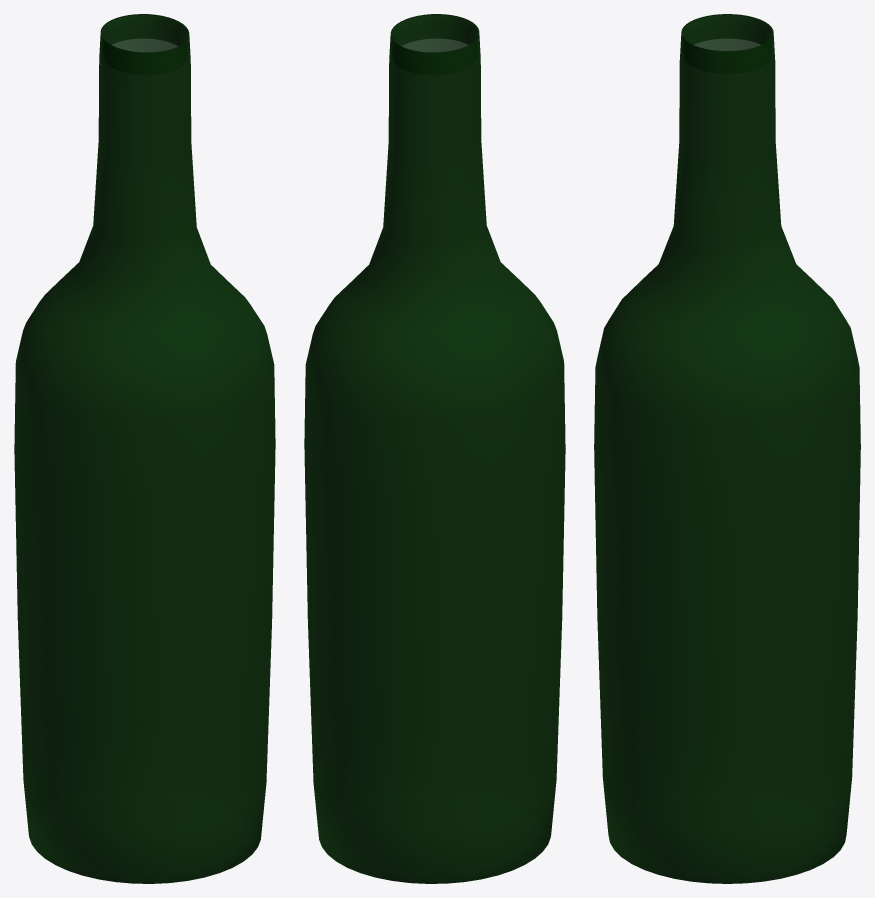
File: bottle_green.fbx
The picture shows the model from 3 angles, left to right: view 1: azimuth 30°, elevation 25°; view 2: azimuth 150°, elevation 25°; view 3: azimuth 270°, elevation 25°; orthographic projection.
Visible parts, largest first — view 1: pCylinder244; view 2: pCylinder244; view 3: pCylinder244.
Part boxes in pixels (bbox=[...]): pCylinder244: bbox=[14, 14, 275, 883]; pCylinder244: bbox=[304, 14, 565, 883]; pCylinder244: bbox=[594, 14, 860, 883].
Bounding box in the file's own units: 0.3563 × 1.22 × 0.3644.
